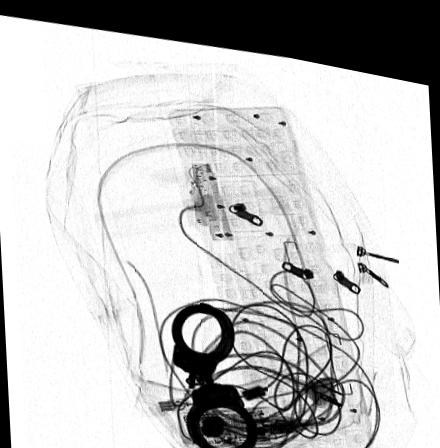HandCuffs: (170, 294, 258, 448)
